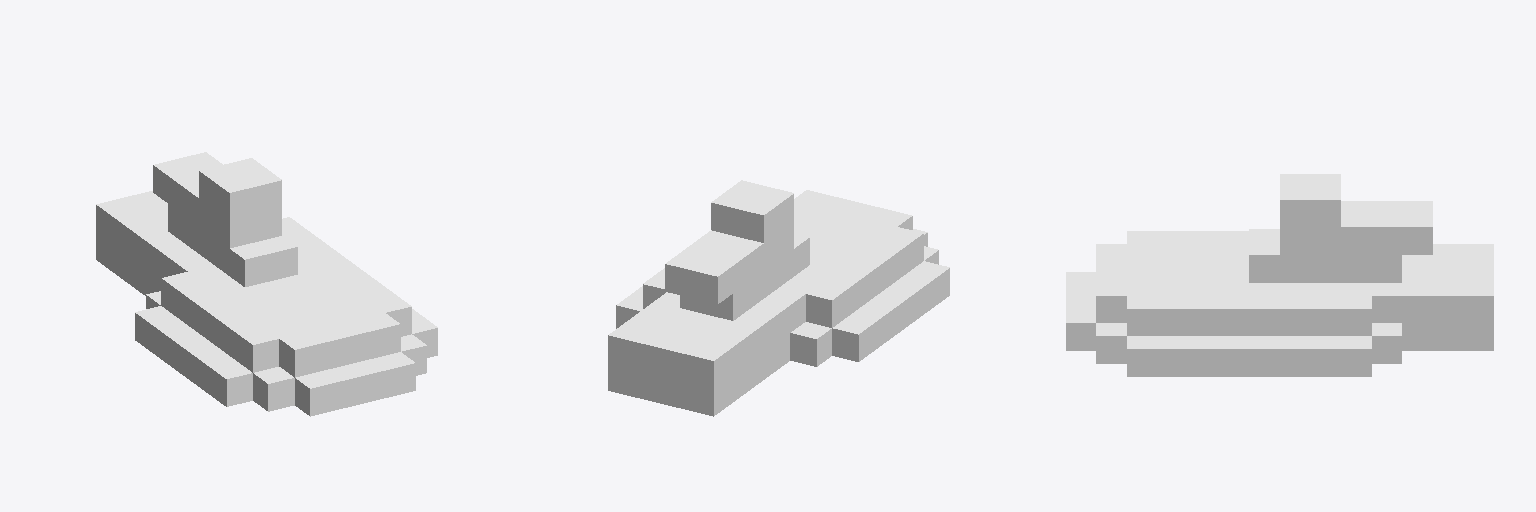
Rendered from Leg-21.obj.
3 renders of one model, left to right at view 1: azimuth 30°, elevation 25°; view 2: azimuth 150°, elevation 25°; view 3: azimuth 270°, elevation 25°, orthographic.
Parts seen in each view (by area): view 1: object 1; view 2: object 1; view 3: object 1.
Part boxes in pixels (x1,y1,x2,y2): object 1: (96,152,437,416); object 1: (608,180,949,416); object 1: (1066,174,1493,376).
Bounding box in the file's own units: 0.8 × 0.5 × 1.4.